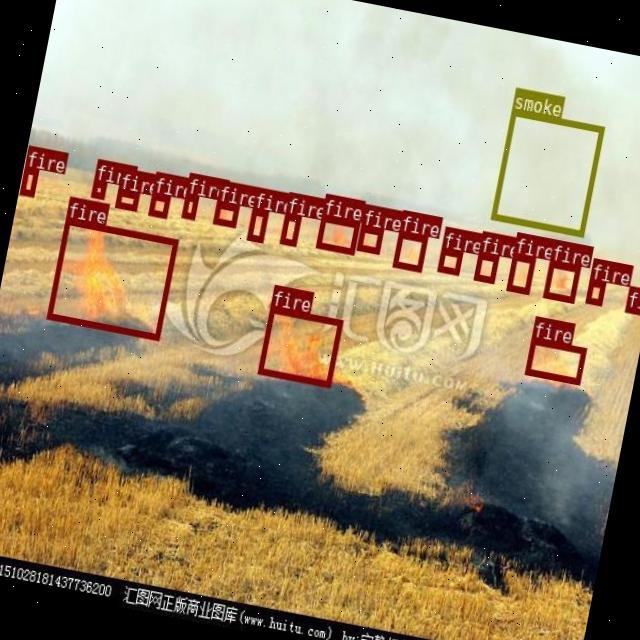fire: (46, 218, 178, 340), (256, 306, 342, 387), (524, 336, 586, 384), (316, 214, 360, 254), (542, 261, 580, 303), (392, 232, 427, 270), (505, 252, 535, 294), (356, 224, 384, 253), (246, 207, 268, 241), (212, 201, 240, 227), (474, 252, 498, 281), (280, 212, 300, 245), (438, 248, 462, 274), (114, 189, 139, 211), (20, 166, 38, 196), (148, 192, 170, 216), (584, 280, 606, 304), (624, 284, 640, 314), (182, 194, 198, 218), (90, 180, 106, 198)
smoke: (490, 108, 604, 236)
